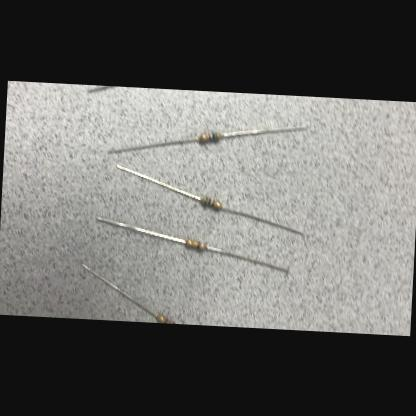resistor: (198, 130, 223, 144), (199, 195, 222, 209), (184, 239, 204, 250), (156, 315, 174, 323)
wire: (78, 264, 159, 318), (113, 165, 200, 200), (220, 206, 303, 235), (106, 132, 198, 158), (95, 216, 186, 242), (204, 246, 288, 272), (222, 122, 306, 140), (86, 84, 110, 92)
